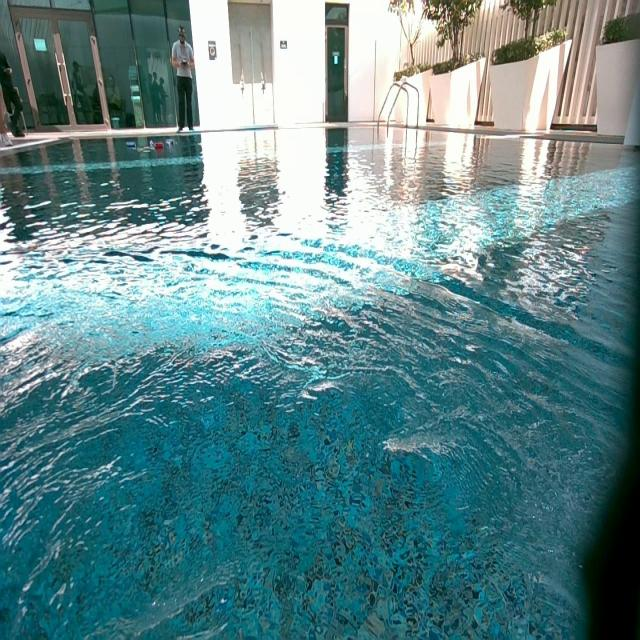Cans: (152, 141, 162, 151), (127, 141, 137, 149), (167, 140, 175, 147), (150, 141, 154, 148)
